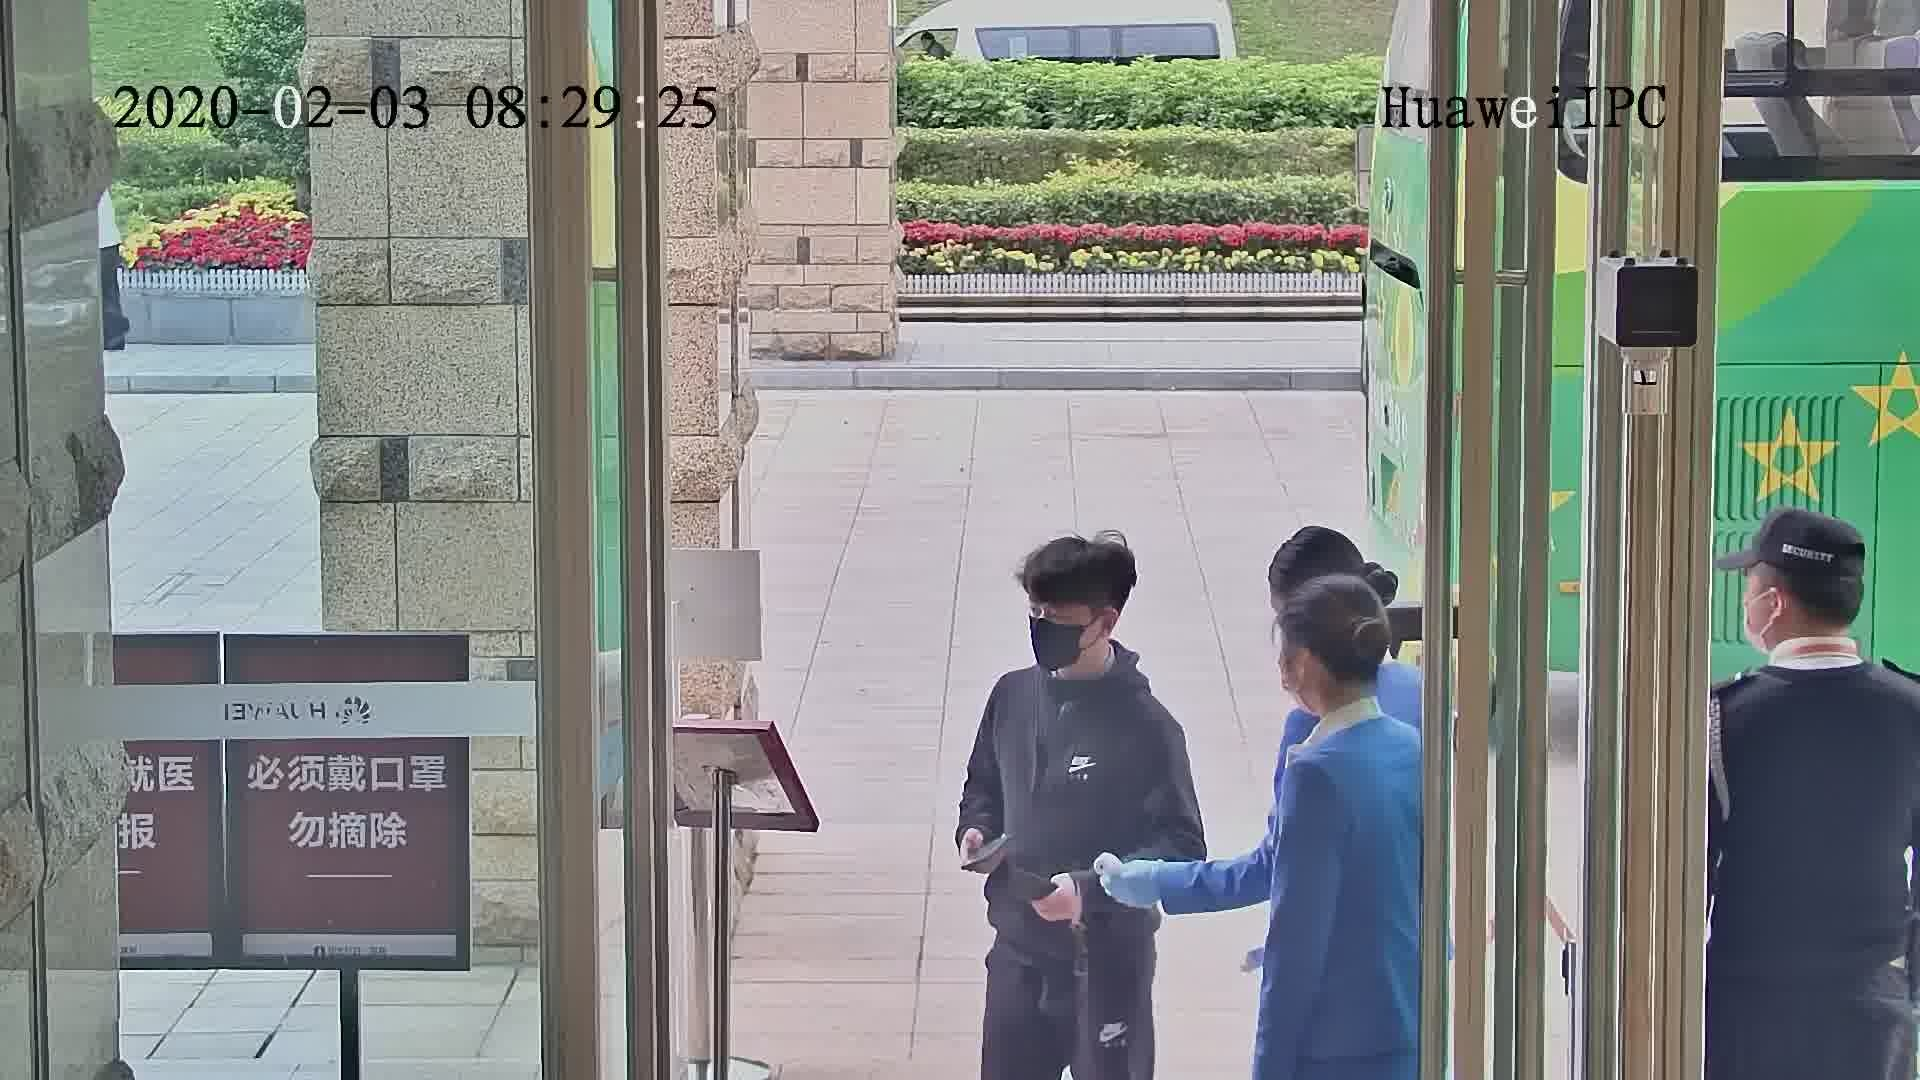face: (1025, 600, 1098, 675)
mask: (1029, 624, 1080, 678)
person: (1718, 500, 1920, 771), (974, 530, 1181, 752), (1268, 562, 1425, 811)
